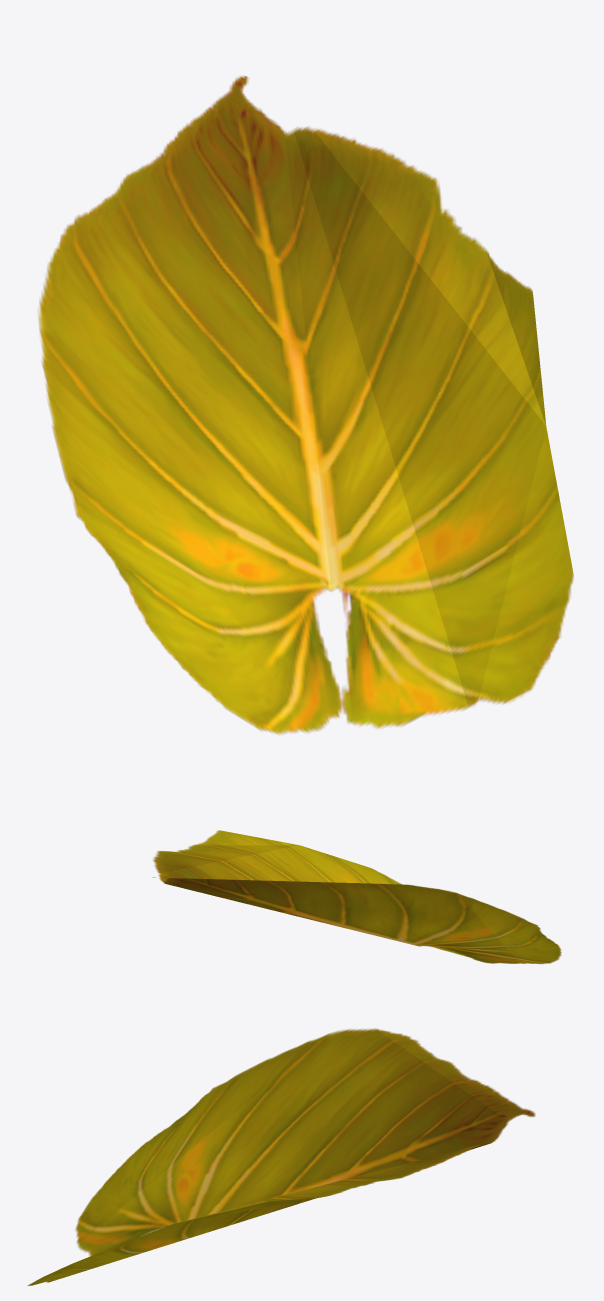
File: BSPlant_2_Leaf_5.gltf
The picture shows the model from 3 angles, top to bottom: view 1: azimuth 30°, elevation 25°; view 2: azimuth 150°, elevation 25°; view 3: azimuth 270°, elevation 25°; orthographic projection. The views are drawn at different scales.
Parts seen in each view (by area): view 1: BSPlant_2_Leaf_5; view 2: BSPlant_2_Leaf_5; view 3: BSPlant_2_Leaf_5.
Boxes of the visible parts, left/top/right/bottom form: BSPlant_2_Leaf_5: left=38, top=76, right=573, bottom=734; BSPlant_2_Leaf_5: left=153, top=830, right=561, bottom=963; BSPlant_2_Leaf_5: left=27, top=1028, right=535, bottom=1285.
Size of the model in its own units: 2.06 by 1.21 by 2.18.
1 material, 1 textured.
